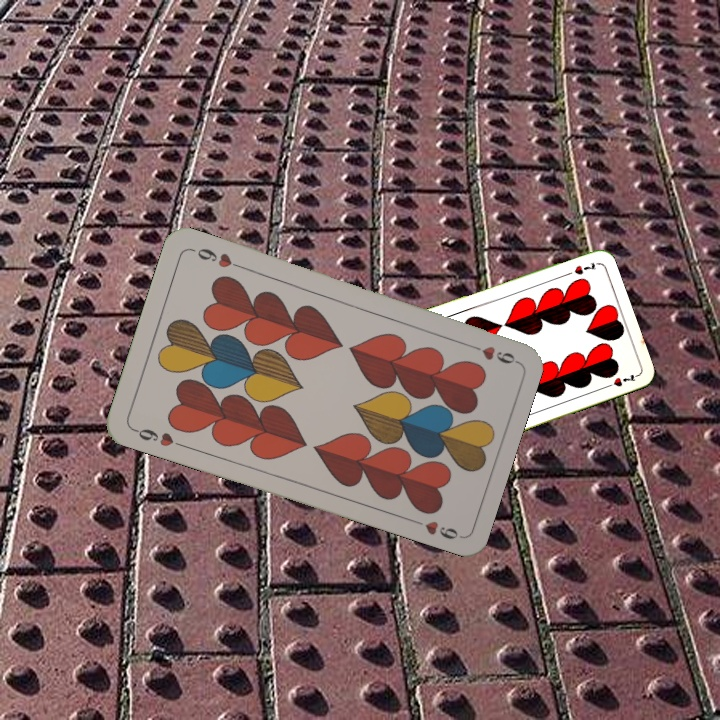H7: (560, 258, 599, 279)
H9: (461, 339, 519, 367), (129, 424, 186, 450)
